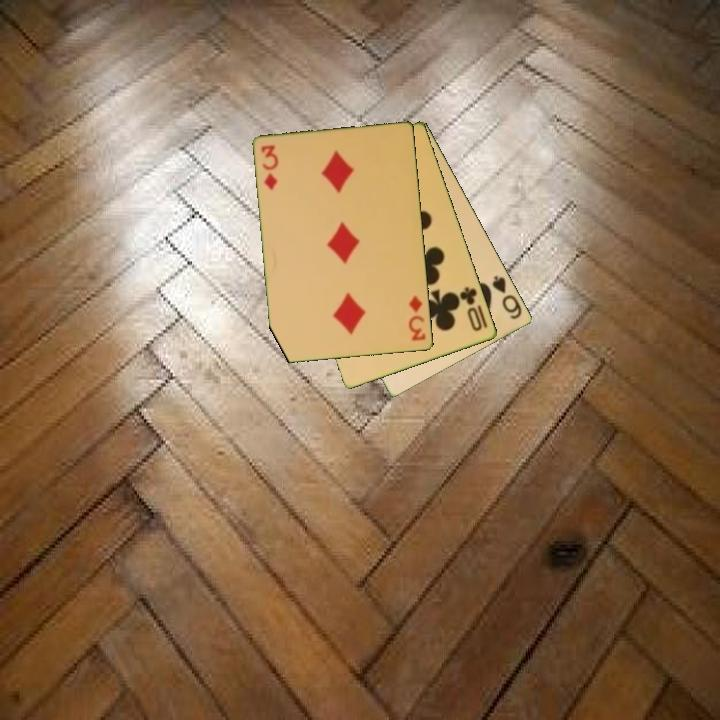10c: (456, 283, 485, 334)
3d: (405, 292, 429, 344), (258, 142, 281, 193)
6s: (489, 272, 525, 322)
